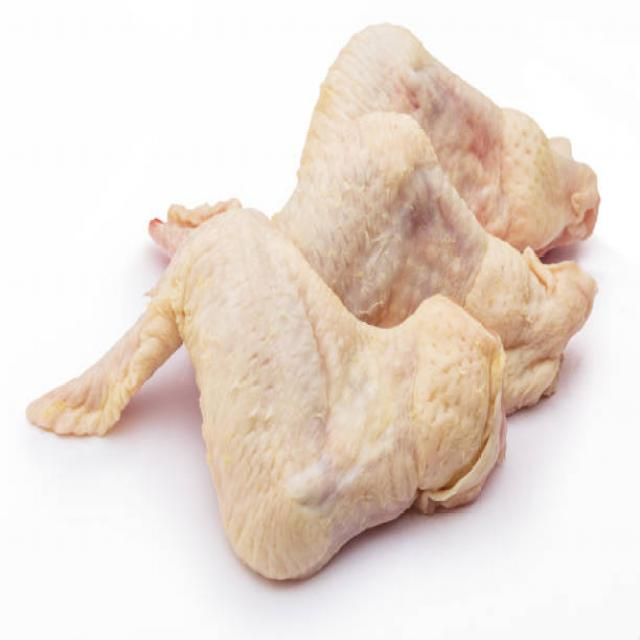chicken: (46, 220, 500, 586)
